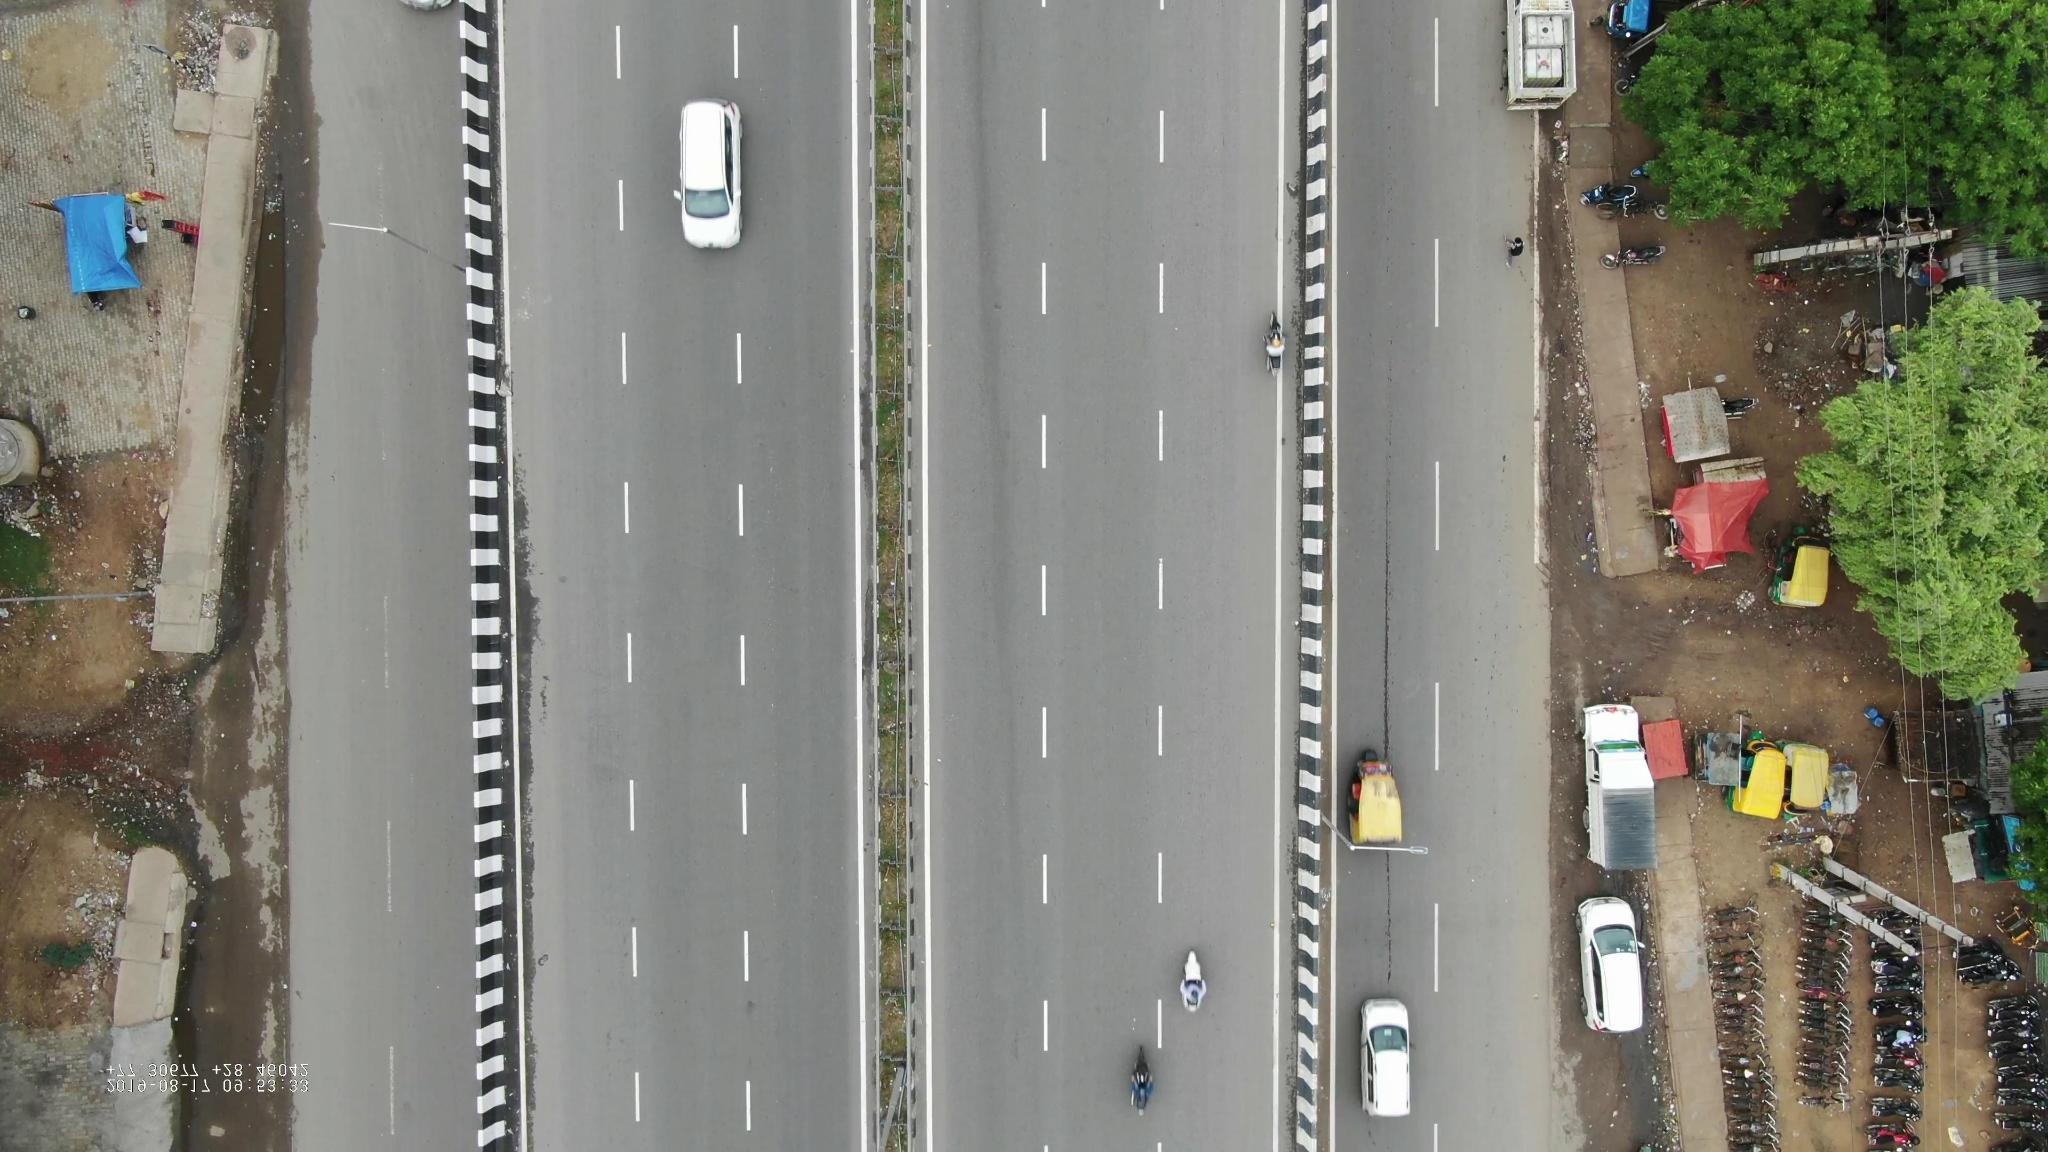Muddy_road: (1530, 166, 1587, 356), (1544, 369, 1594, 558), (1599, 1042, 1675, 1152)
Ravelling: (1374, 461, 1402, 743), (1371, 859, 1407, 985)
Waterlogging: (231, 181, 302, 430)
